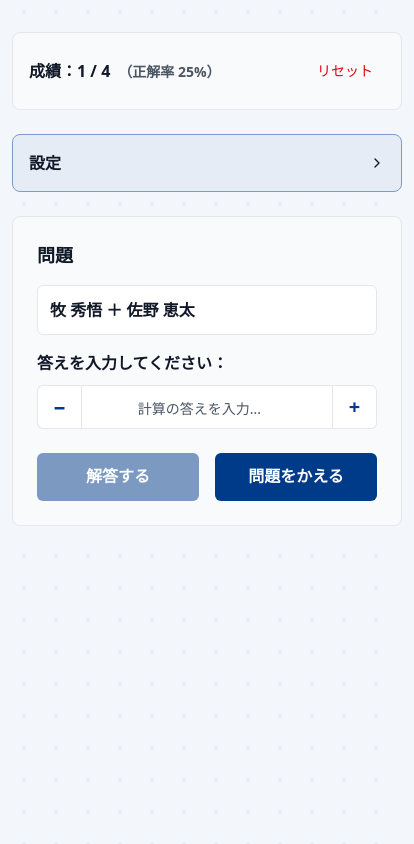
Test case: Question Component › when using arithmetic operators › should handle addition correctly
In the number field with test id "number-input": [207, 407] box [81,385,333,429], type "9"
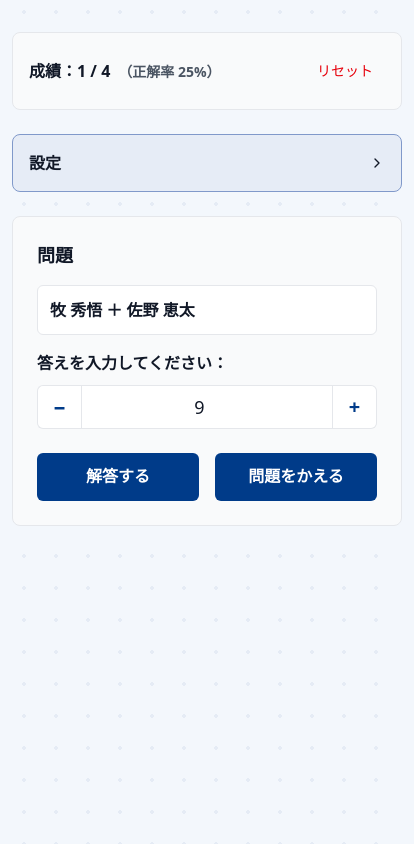
Click the button "解答する": [118, 477] box [37,453,199,501]
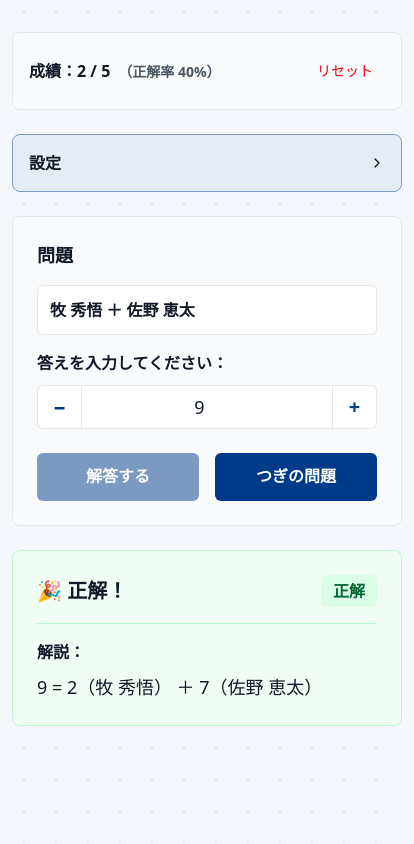
Check: the text "9 = 2（牧 秀悟） ＋ 7（佐野 恵太）" is shown, box [37,675,322,699]
